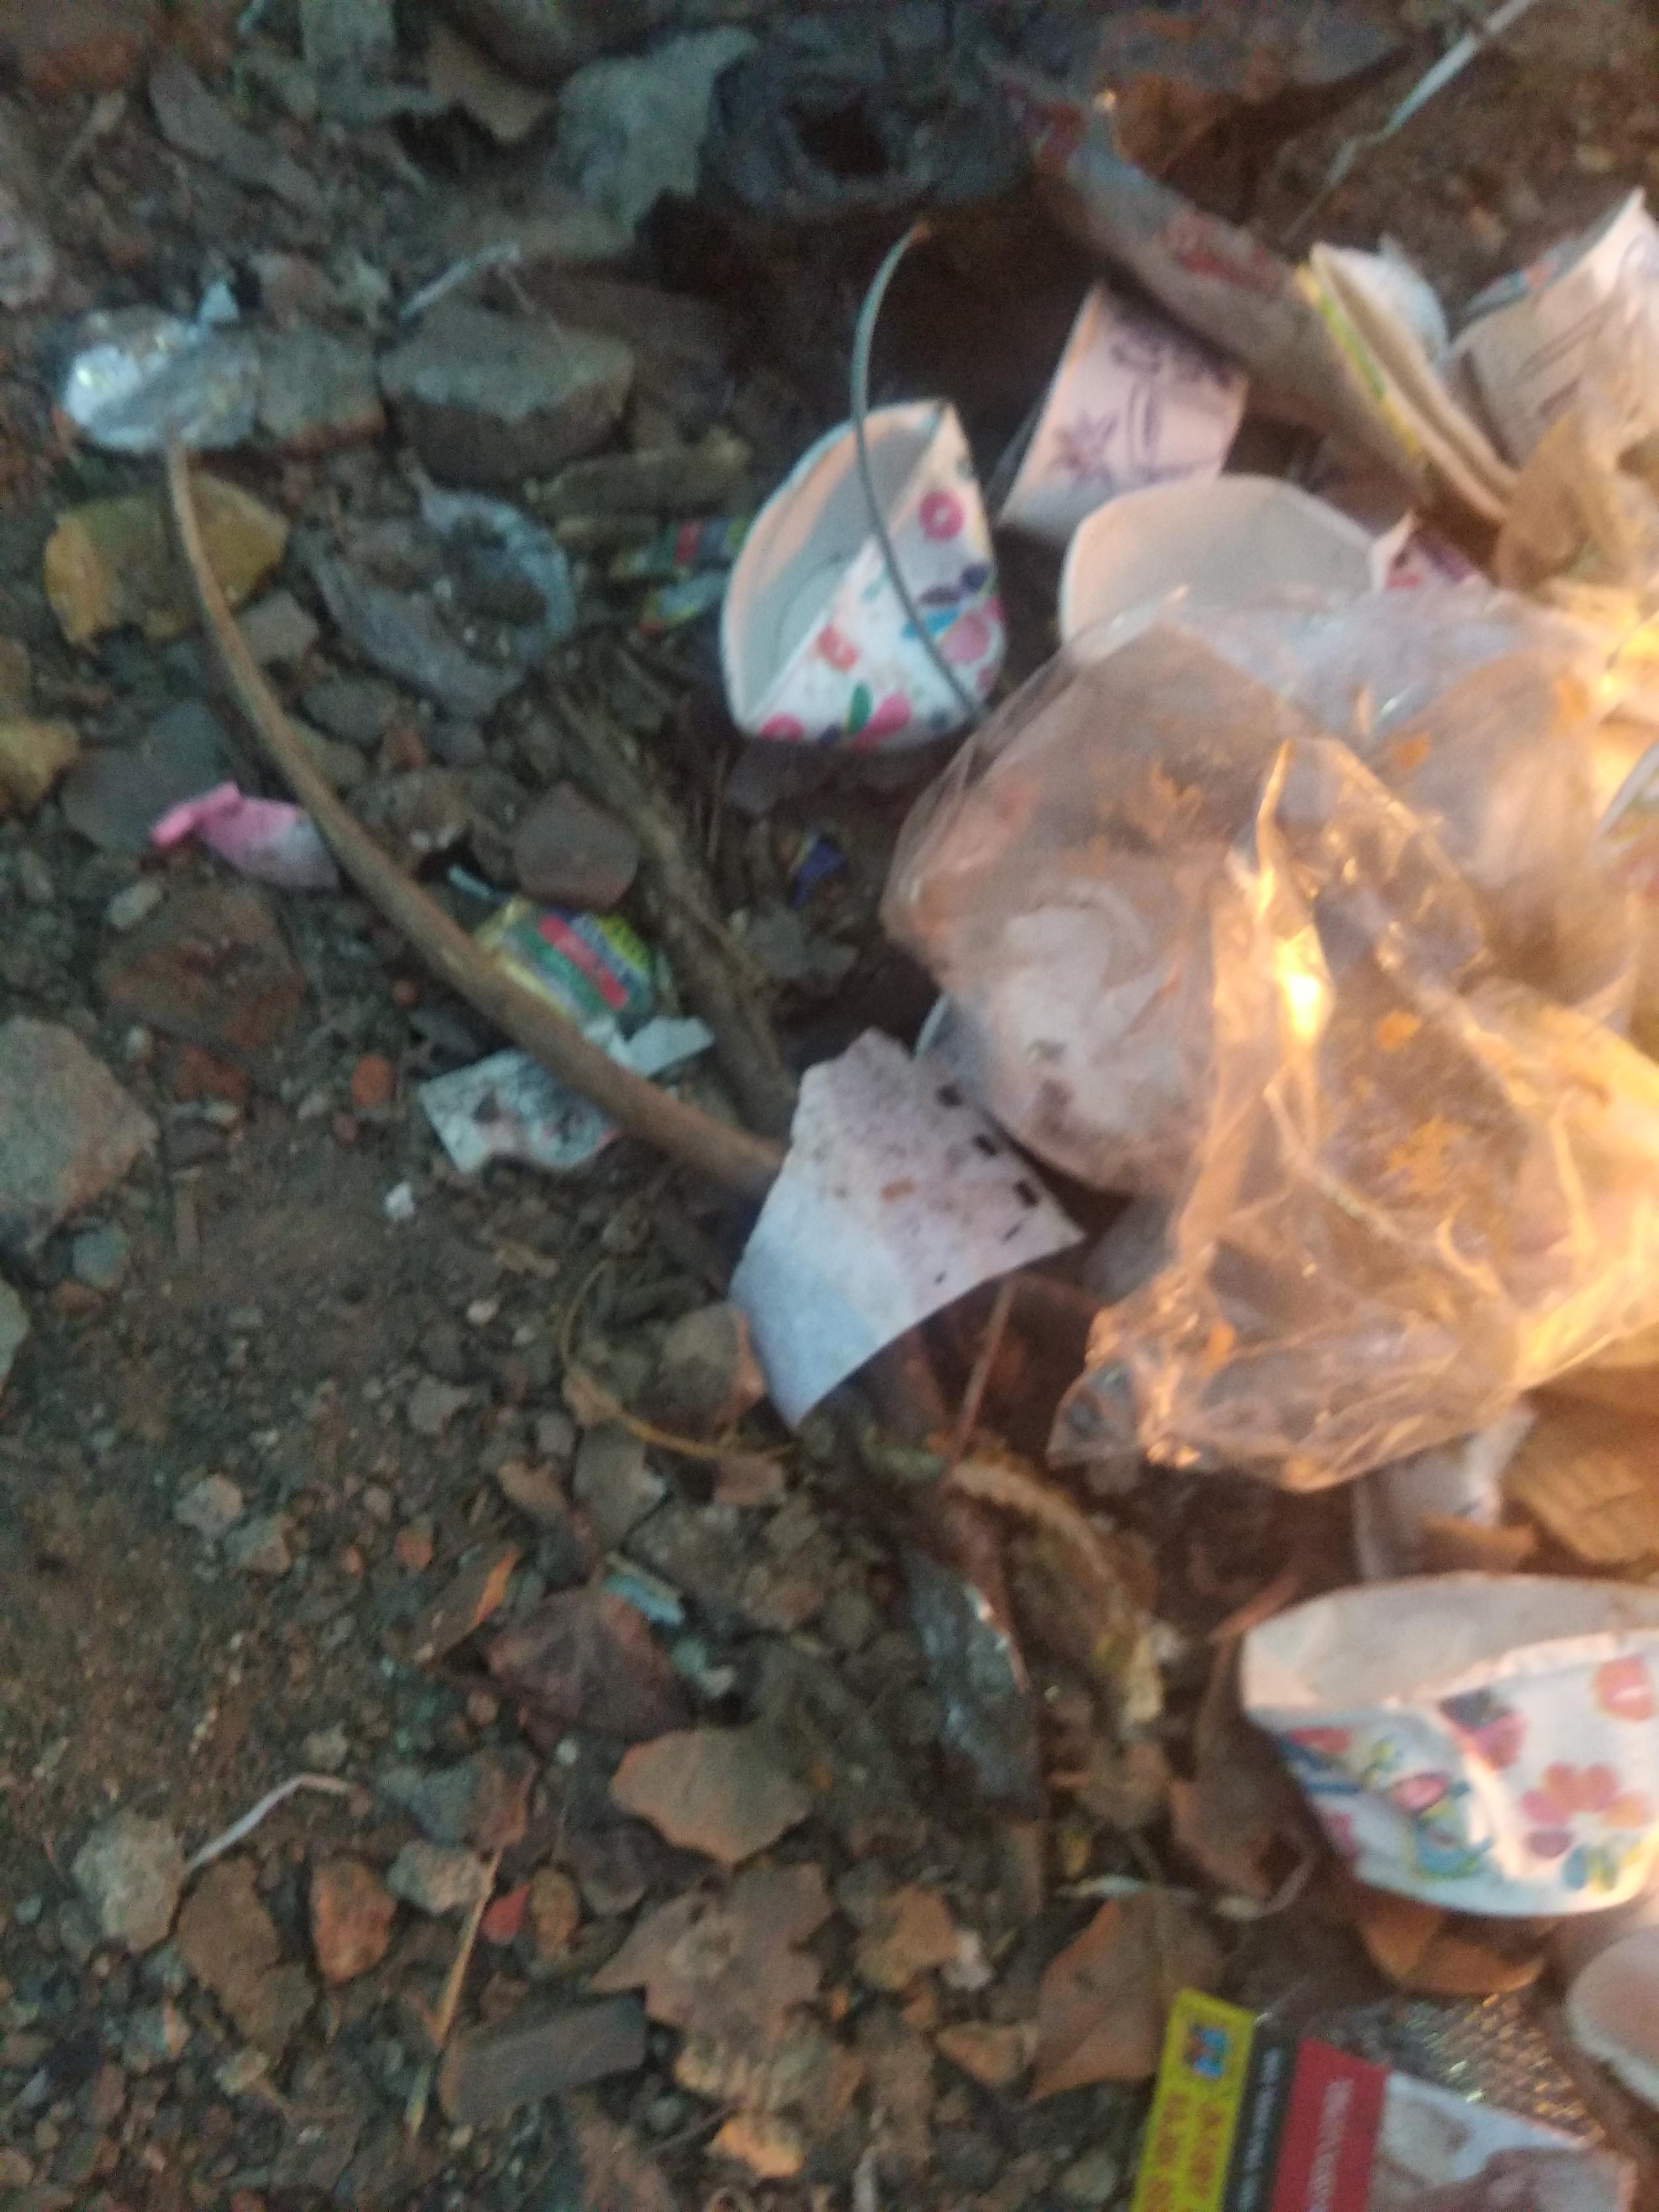trash: (420, 160, 1659, 2193)
